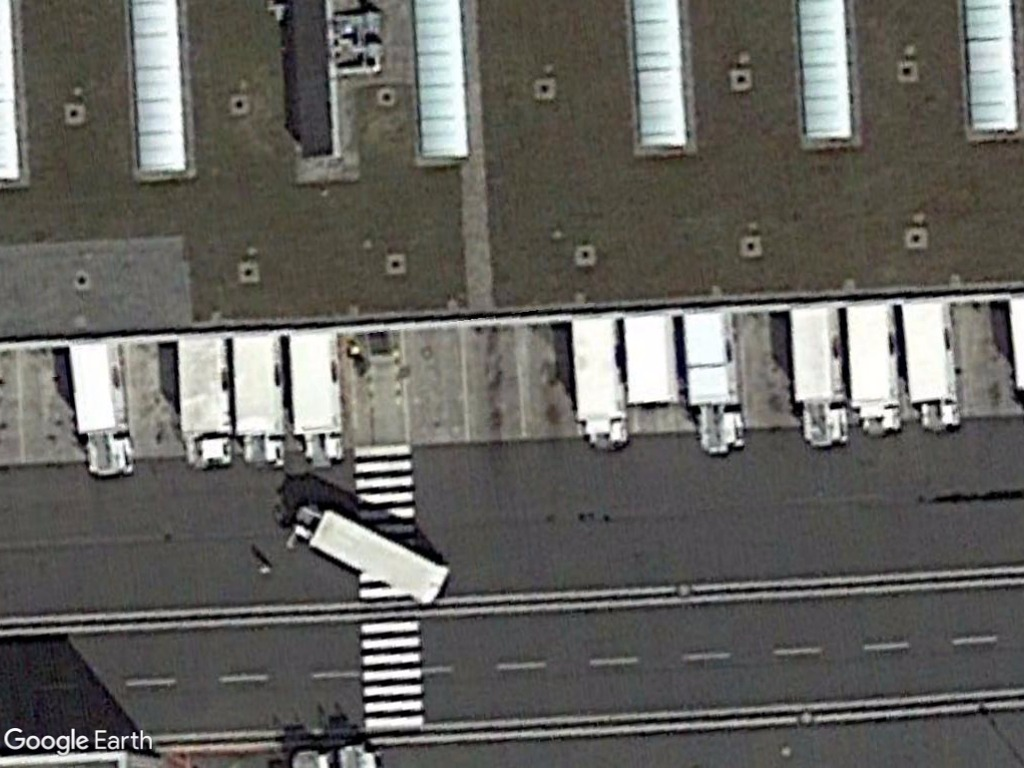truck: (282, 493, 461, 613), (676, 310, 751, 460), (786, 302, 854, 451), (897, 297, 969, 435), (67, 340, 136, 482), (284, 331, 352, 473), (228, 331, 294, 474), (171, 333, 236, 476), (569, 312, 633, 457), (844, 299, 909, 438)
